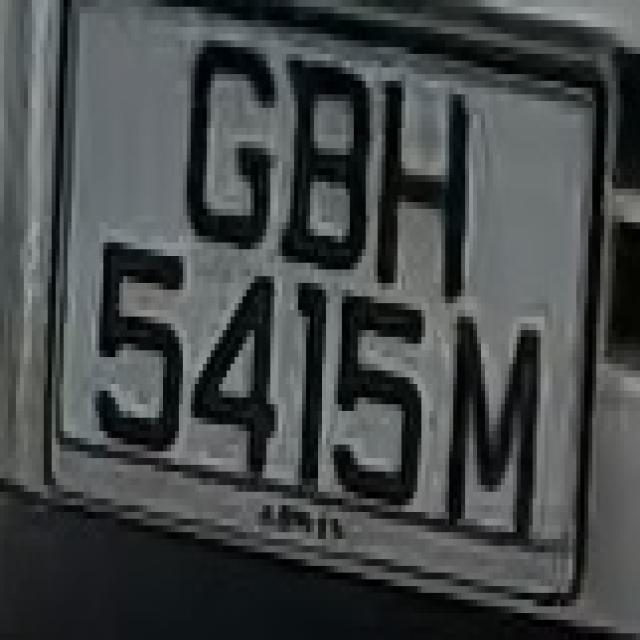1: (286, 276, 338, 512)
4: (187, 236, 286, 505)
5: (87, 216, 195, 472), (334, 242, 429, 518)
B: (286, 27, 374, 290)
G: (175, 7, 282, 283)
H: (382, 54, 477, 303)
M: (433, 303, 541, 559)
